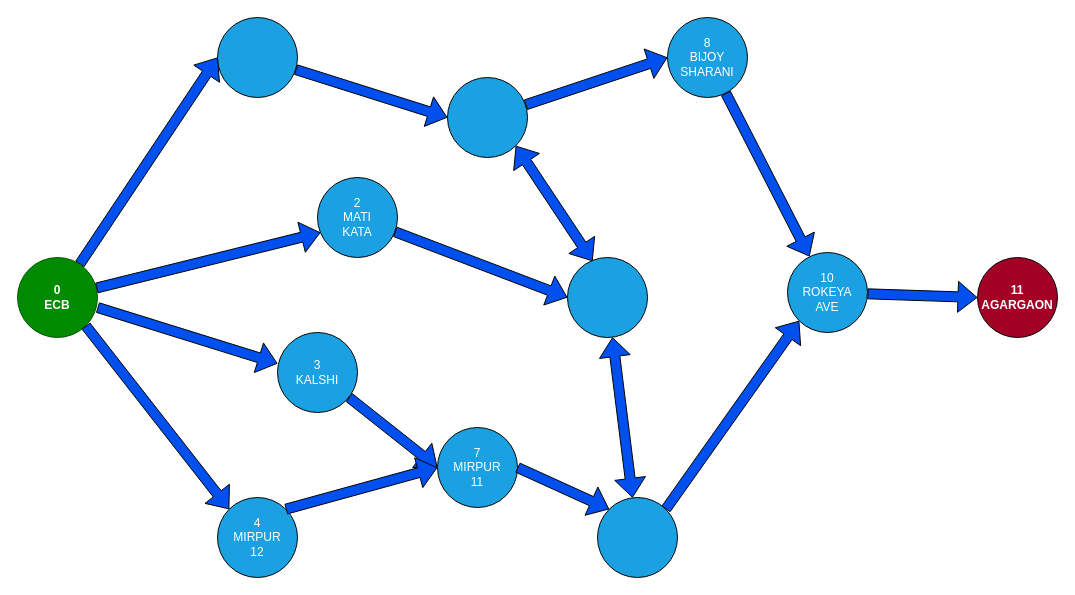
The diagram is 1075 pixels wide and 595 high, and some of its shapes have lost their labels. The centre of each missing label's shape, as x and y in pixels:
"1 CANTON MENT" goes at point (257, 57).
"5 JAHANGIR GATE" goes at point (487, 117).
"6 MIRPUR 14" goes at point (607, 297).
"9 MIRPUR 10" goes at point (637, 537).
